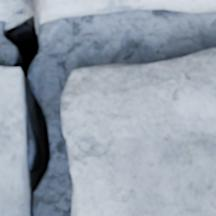brick: (62, 48, 215, 215), (0, 67, 29, 215)
broken_brick: (43, 0, 215, 20), (0, 0, 19, 20), (40, 20, 46, 23)
crack: (0, 0, 51, 214)
